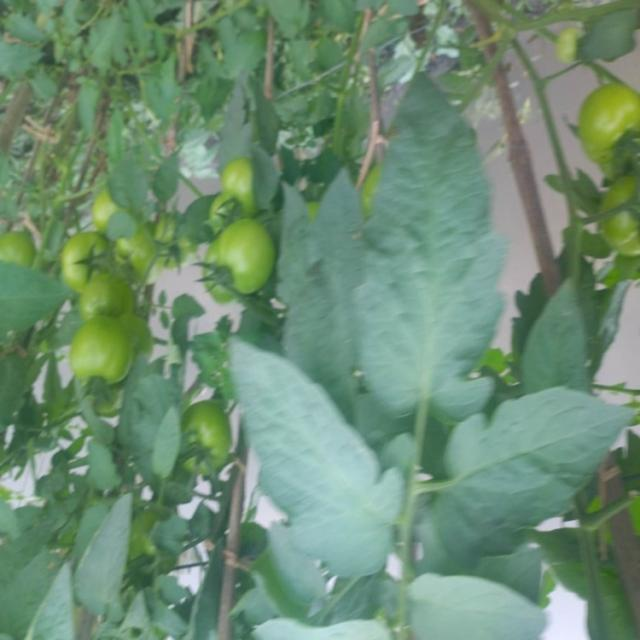tomato: (63, 307, 156, 401), (68, 227, 151, 320), (211, 218, 291, 314), (561, 70, 640, 165), (102, 217, 182, 290), (593, 164, 640, 269), (215, 154, 278, 225), (187, 399, 243, 478), (88, 191, 133, 243), (1, 231, 45, 274)
